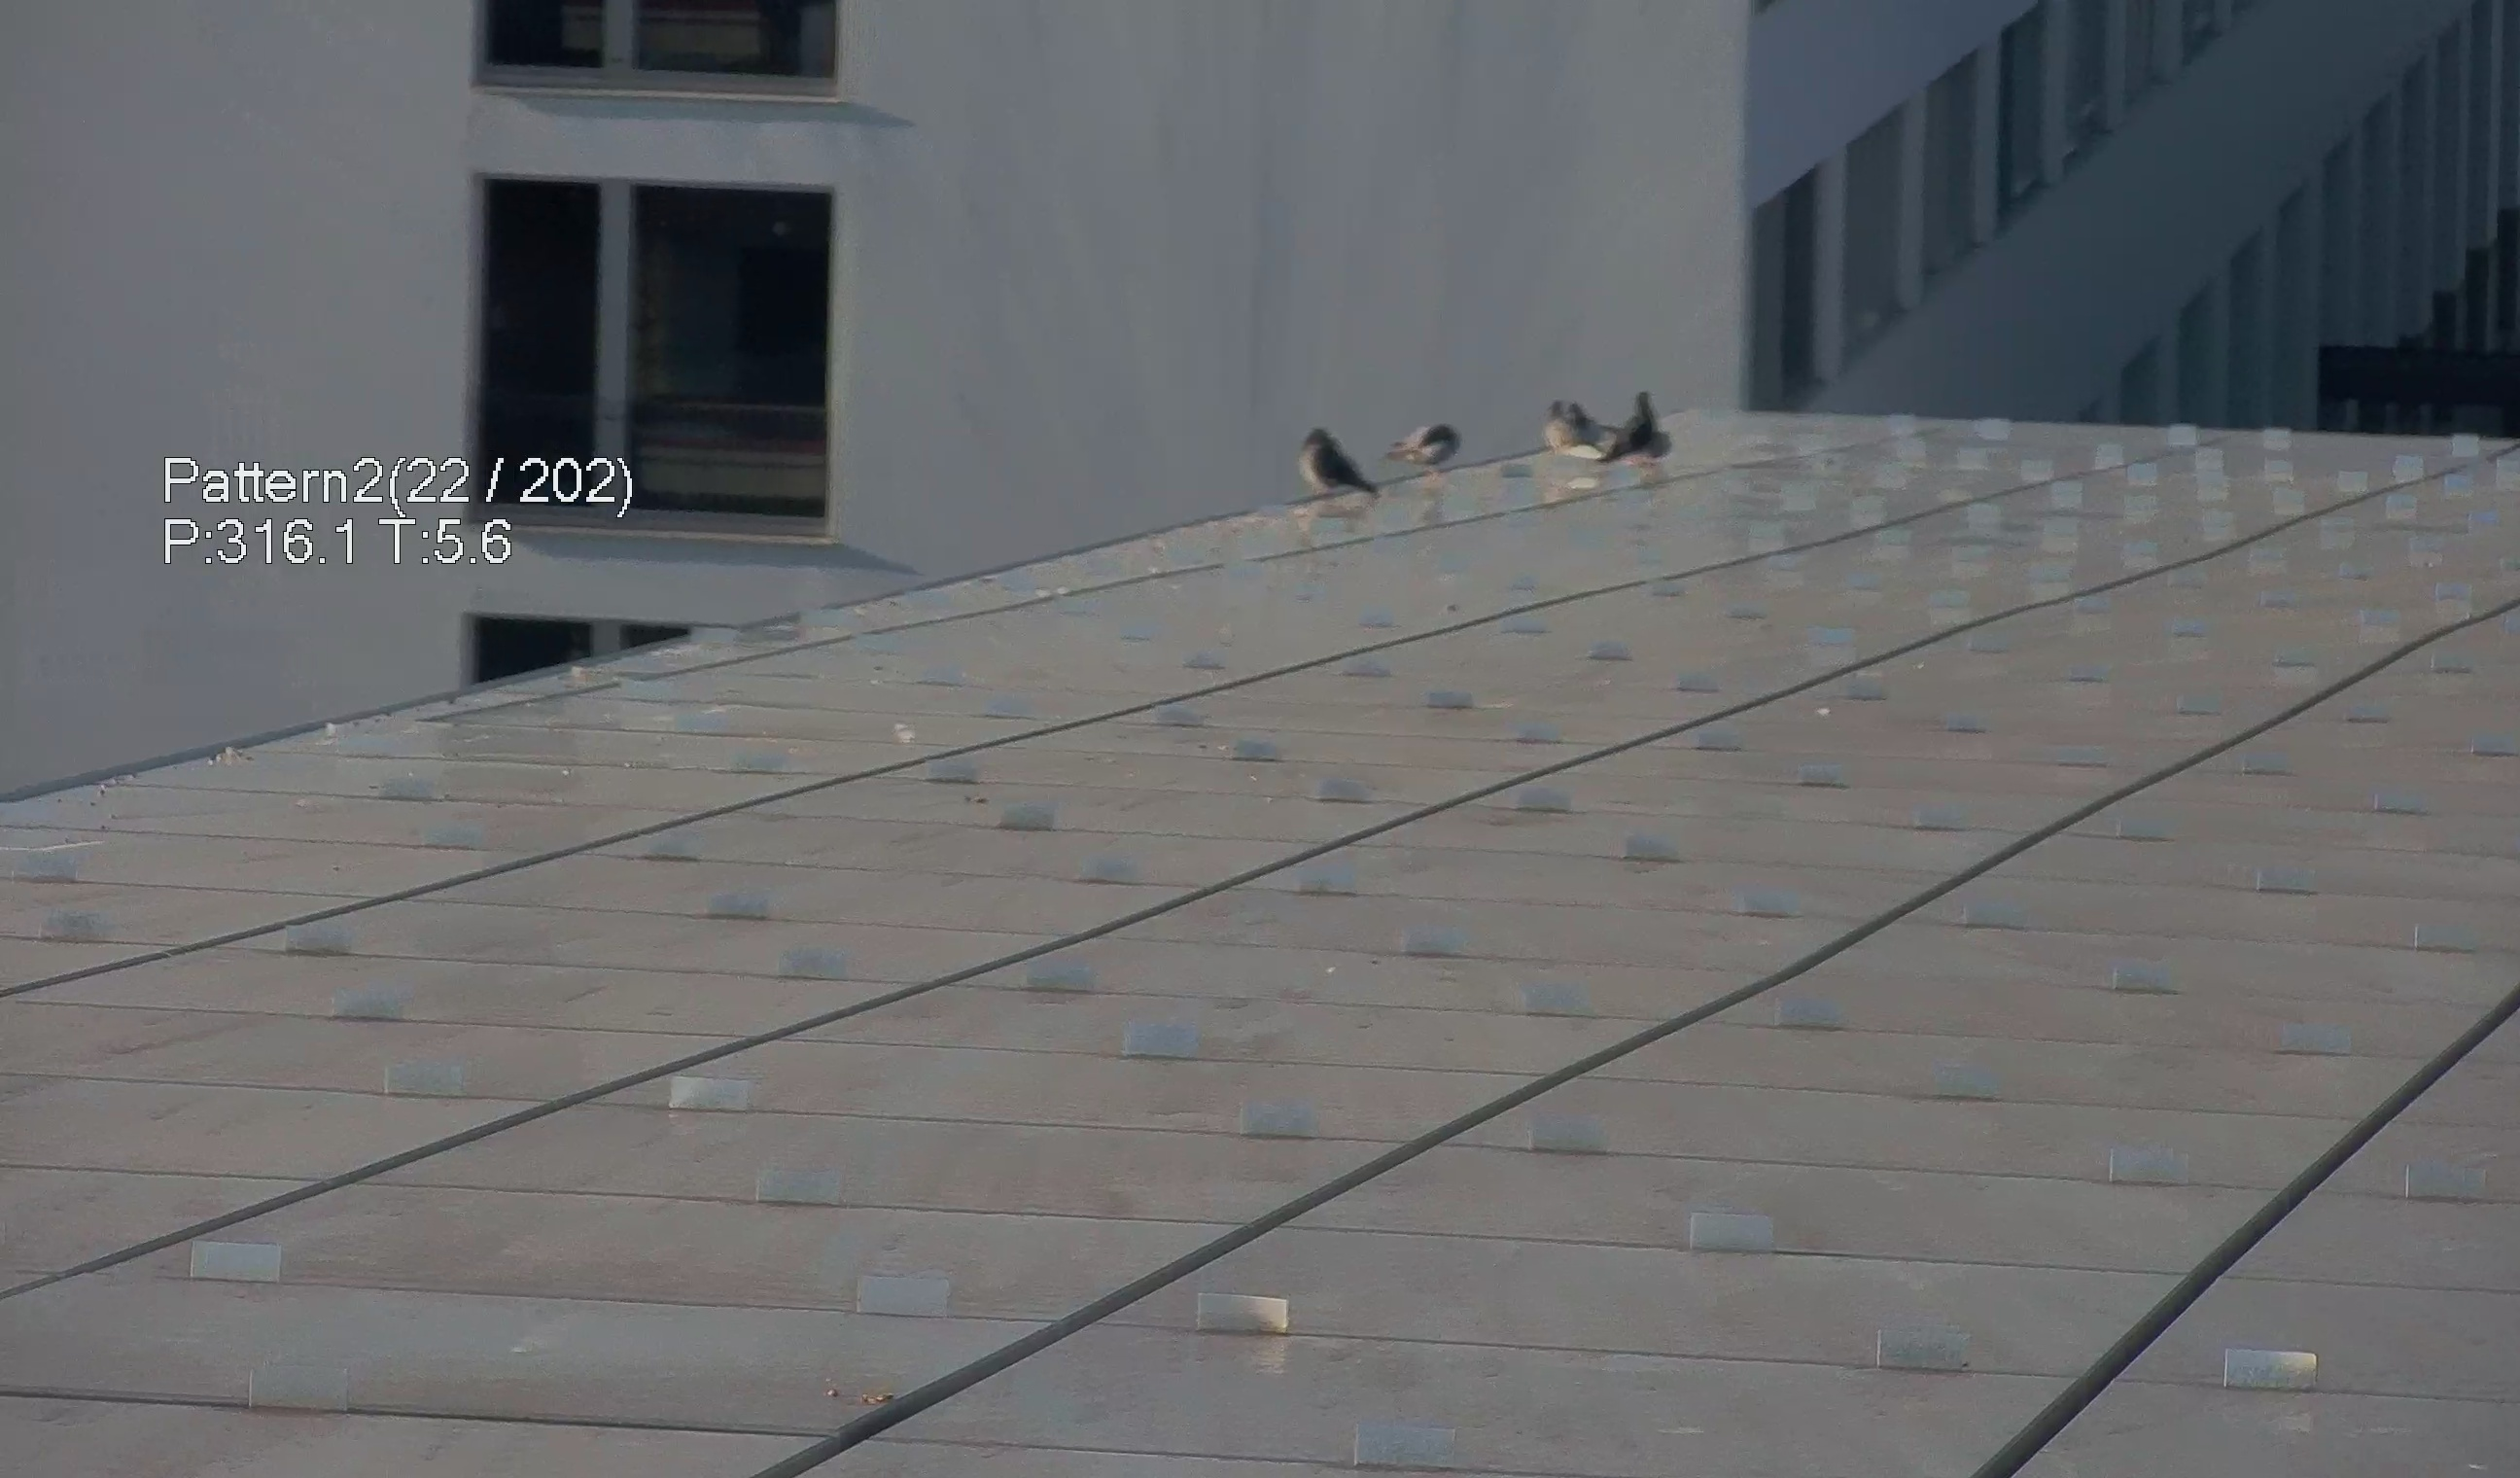Pigeon: (1282, 412, 1395, 514), (1602, 385, 1674, 475), (1382, 410, 1467, 473), (1539, 399, 1609, 465)
